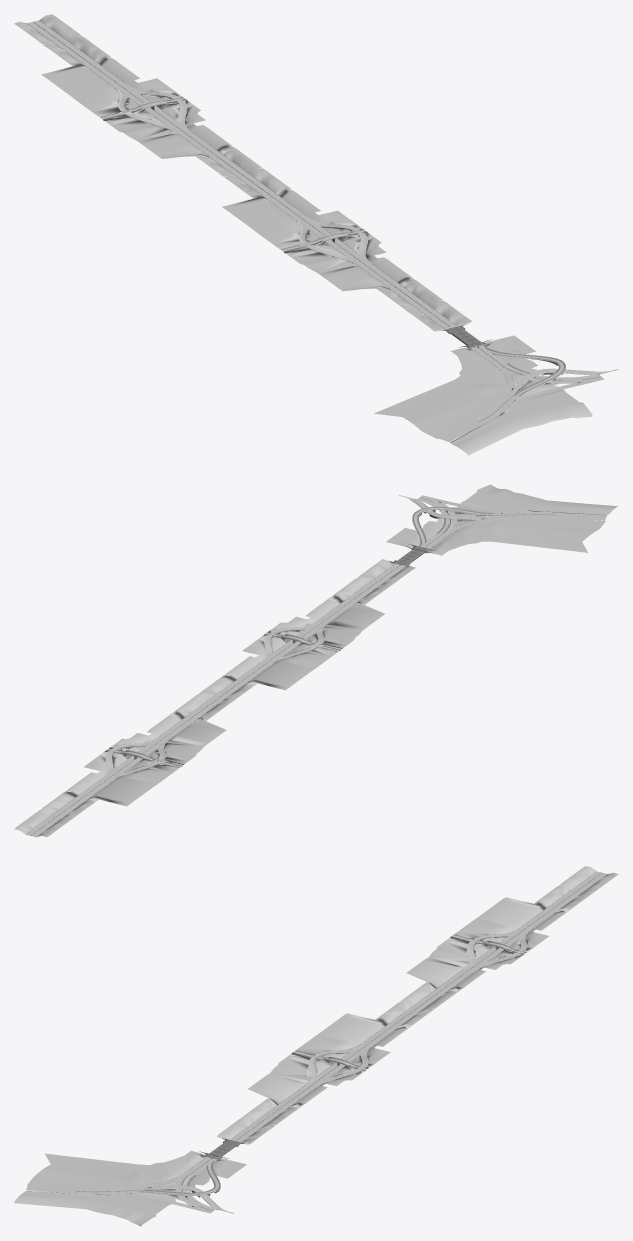
Rendered from aplinkelis.fbx.
3 renders of one model, top to bottom at view 1: azimuth 30°, elevation 25°; view 2: azimuth 150°, elevation 25°; view 3: azimuth 330°, elevation 25°, orthographic. The views are drawn at different scales.
Visible parts, largest first — view 1: vgsSairportland13.001, kelias, VegasSroad017.001, VegasSroad017.003, sub_roadright_l0.002; view 2: vgsSairportland13.001, kelias, VegasSroad017.001, VegasSroad017.003, sub_roadright_l0.002; view 3: vgsSairportland13.001, kelias, VegasSroad017.001, VegasSroad017.003, sub_roadright_l0.002.
Part boxes in pixels (x1,y1,x2,y2): vgsSairportland13.001: (14,14,592,455); kelias: (27,20,618,441); VegasSroad017.001: (100,89,601,422); VegasSroad017.003: (136,99,600,396); sub_roadright_l0.002: (27,20,516,382); vgsSairportland13.001: (14,484,617,837); kelias: (25,495,606,837); VegasSroad017.001: (106,497,556,778); VegasSroad017.003: (117,499,493,761); sub_roadright_l0.002: (28,520,475,835); vgsSairportland13.001: (14,866,618,1226); kelias: (26,871,607,1213); VegasSroad017.001: (75,932,528,1210); VegasSroad017.003: (140,941,510,1208); sub_roadright_l0.002: (154,873,606,1185).
Bounding box in the file's own units: 72161 × 2633 × 299645.
